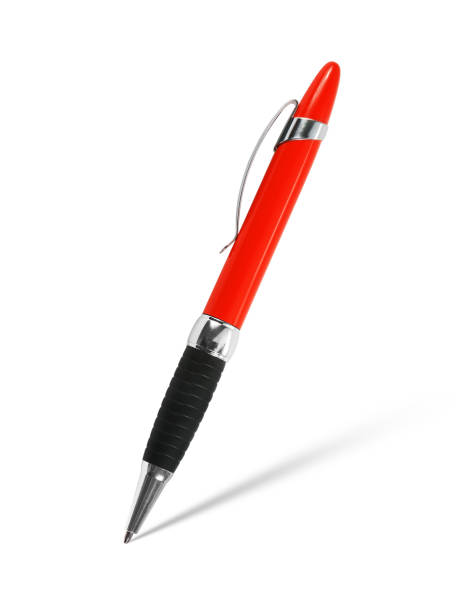pen: (119, 56, 402, 551)
